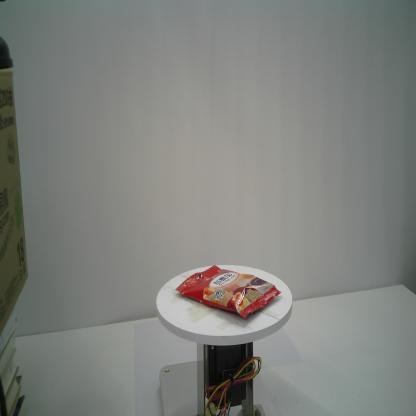Instant Drink: (174, 262, 282, 320)
